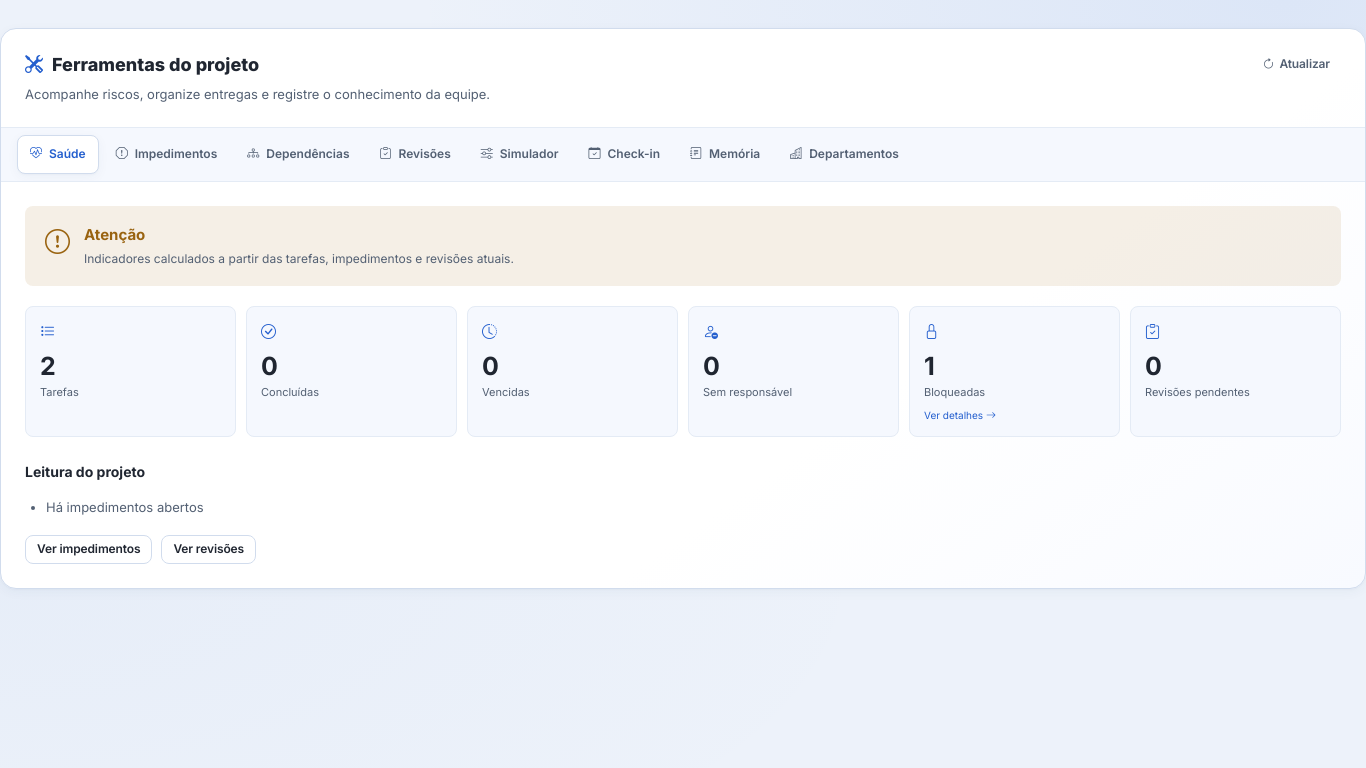
it: atualização das tarefas do projeto recarrega ferramentas mantendo a aba selecionada
The width and height of the screenshot is (1366, 768).
Click the tab "Impedimentos" at (166, 154), box 103,135 -> 230,174
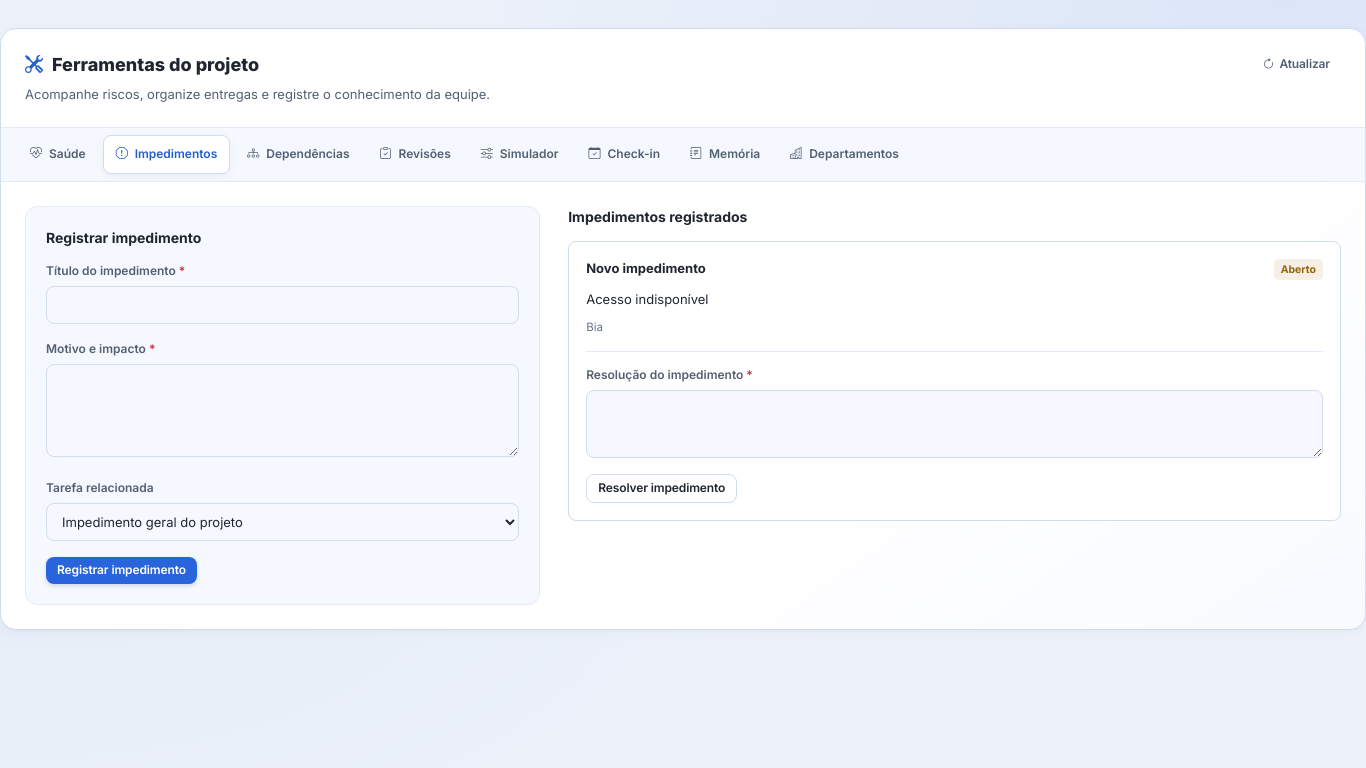
Now the text "Novo impedimento" is shown, box 586,259 -> 706,278
